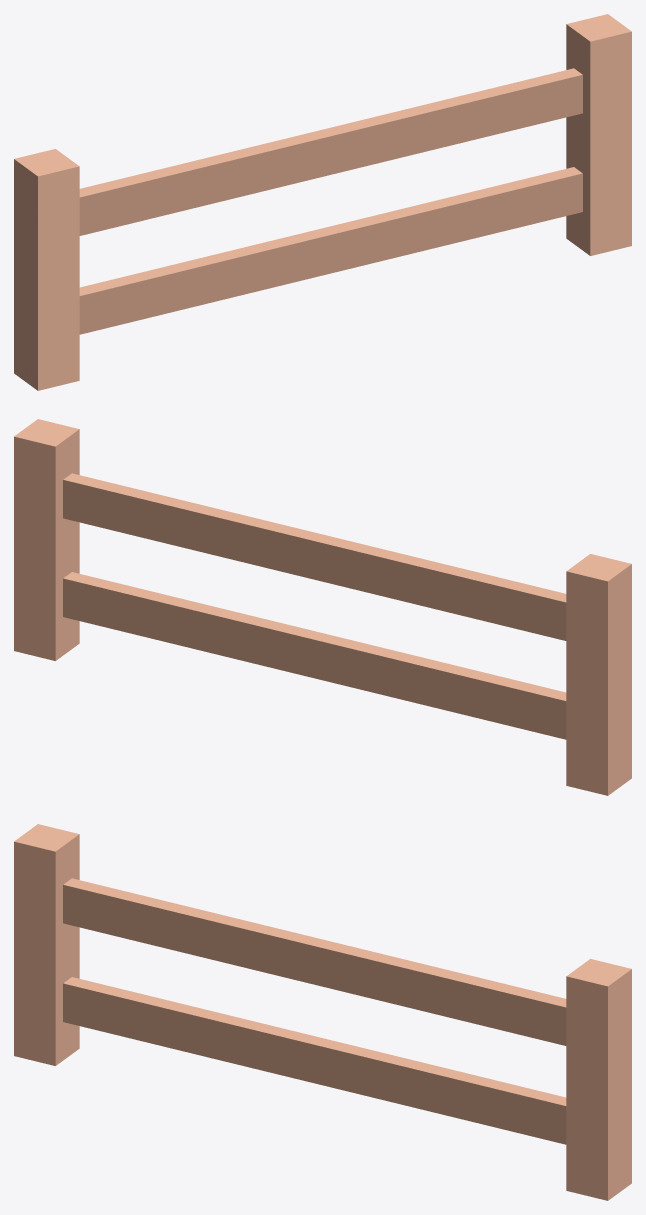
The model's file is fence_simple.gltf.
The picture shows the model from 3 angles, top to bottom: view 1: azimuth 30°, elevation 25°; view 2: azimuth 150°, elevation 25°; view 3: azimuth 330°, elevation 25°; orthographic projection.
Parts seen in each view (by area): view 1: fence_simple; view 2: fence_simple; view 3: fence_simple.
Part boxes in pixels (x1,y1,x2,y2): fence_simple: (14,14,631,390); fence_simple: (14,419,631,795); fence_simple: (14,824,631,1200).
Size of the model in its own units: 1 by 0.345 by 0.07.
